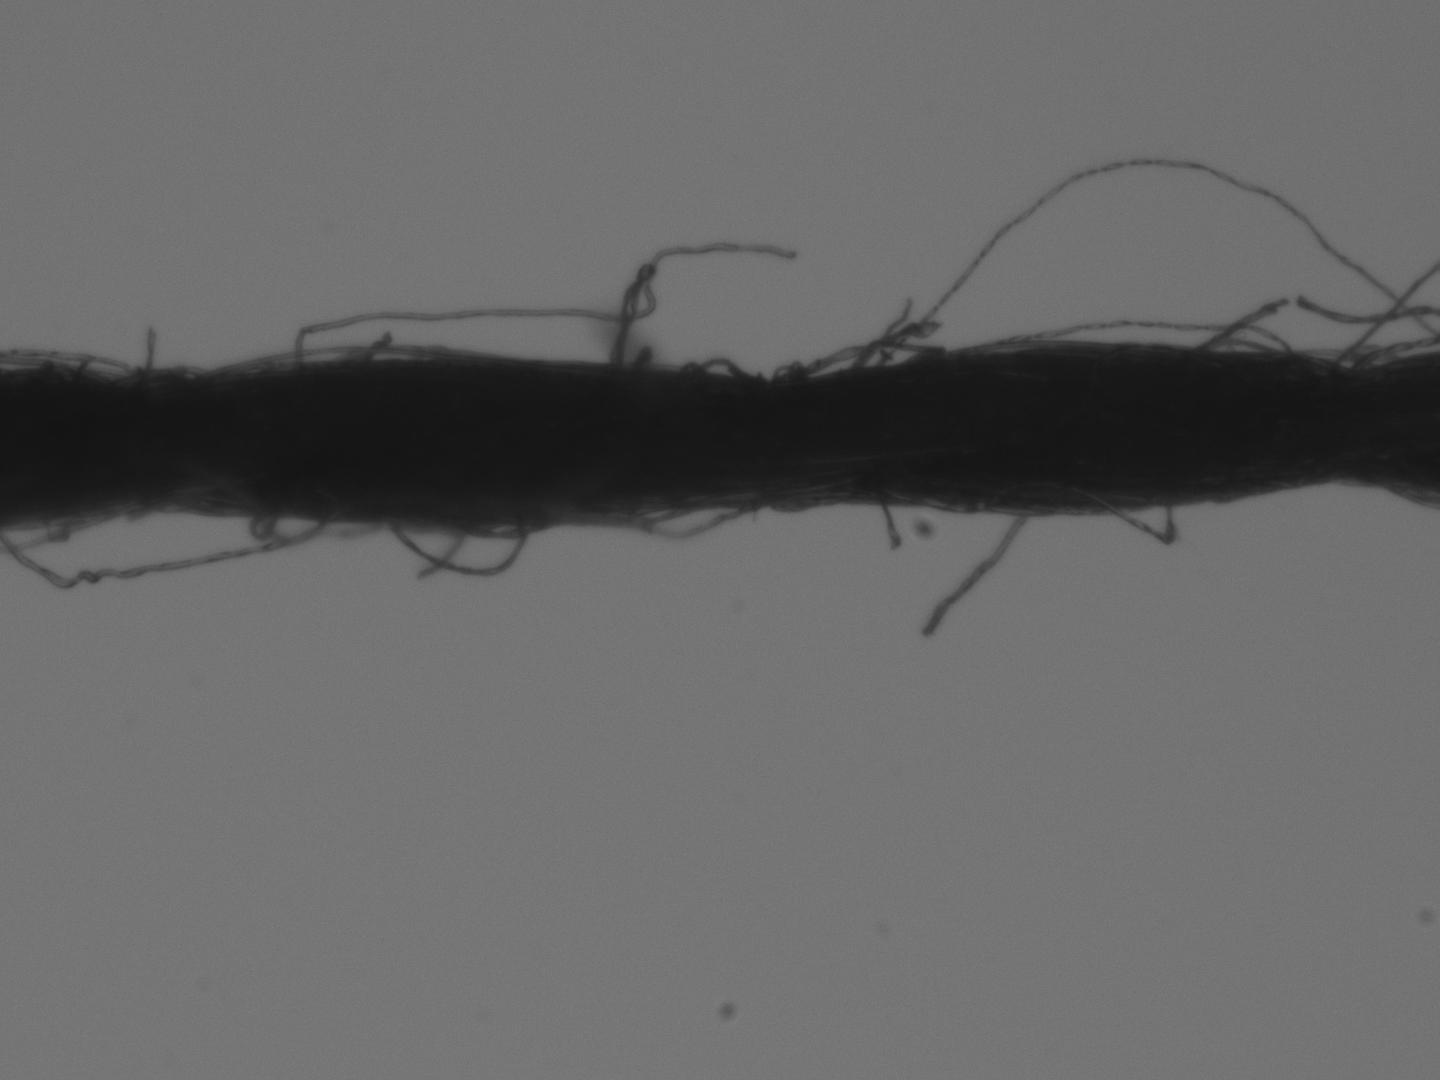loop_fiber: (880, 154, 1438, 374), (1, 507, 317, 591), (571, 499, 774, 546), (1016, 318, 1273, 352), (383, 516, 523, 574), (773, 339, 938, 381), (1109, 508, 1175, 543), (689, 357, 761, 381), (248, 509, 277, 539), (677, 363, 708, 376)
protruding_fiber: (920, 515, 1041, 642), (1194, 294, 1285, 361), (876, 501, 903, 552), (138, 326, 159, 374)
